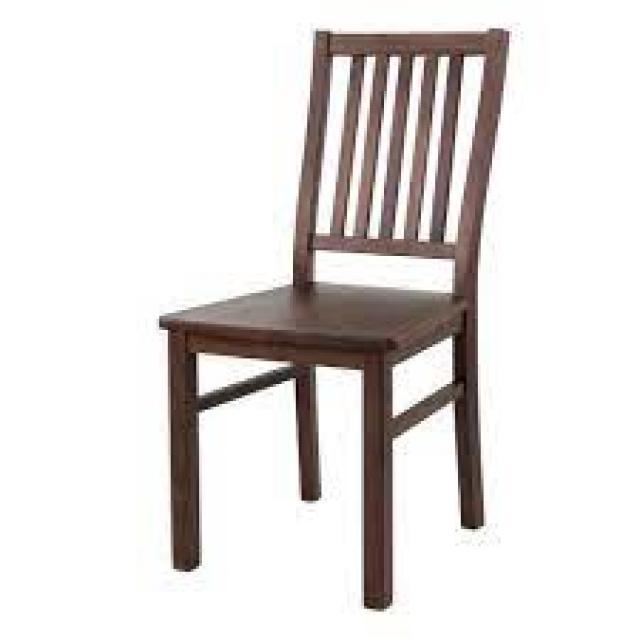chair: (149, 17, 534, 618)
